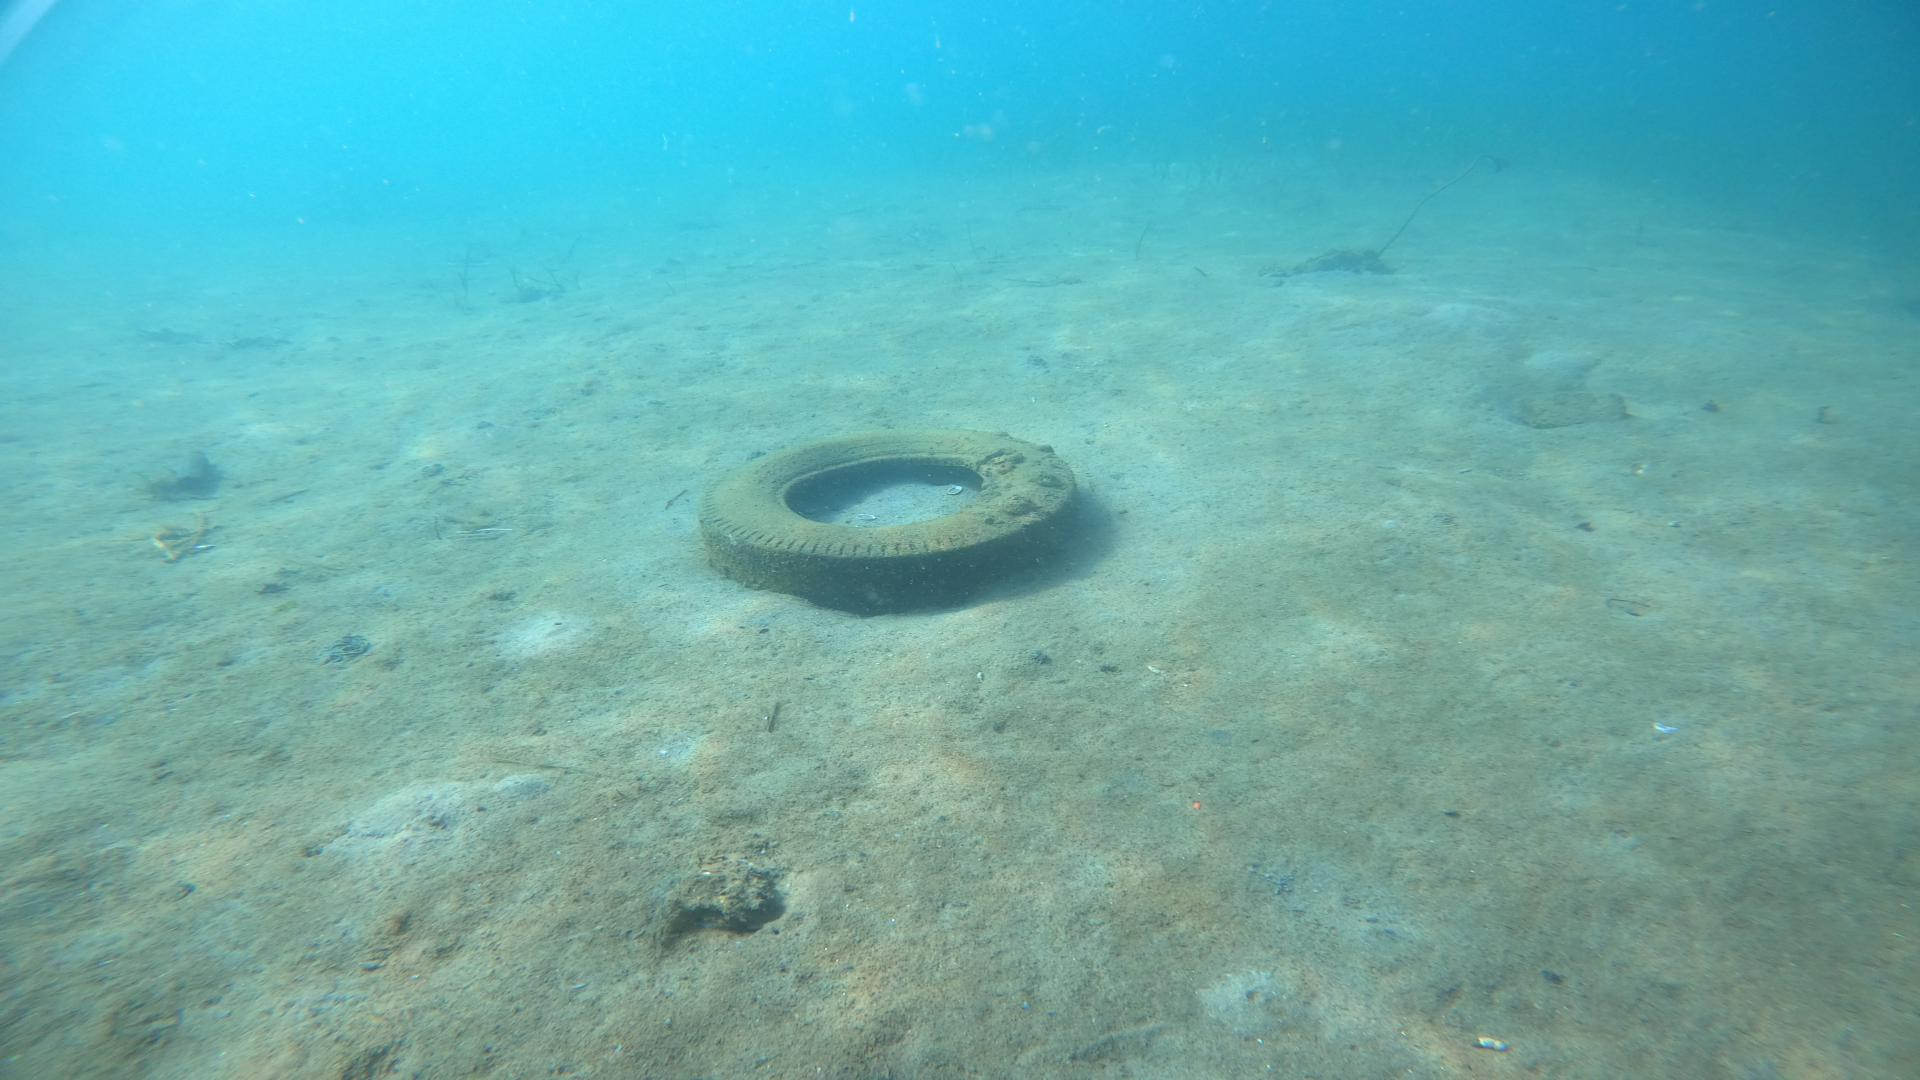tire: (696, 426, 1076, 616)
